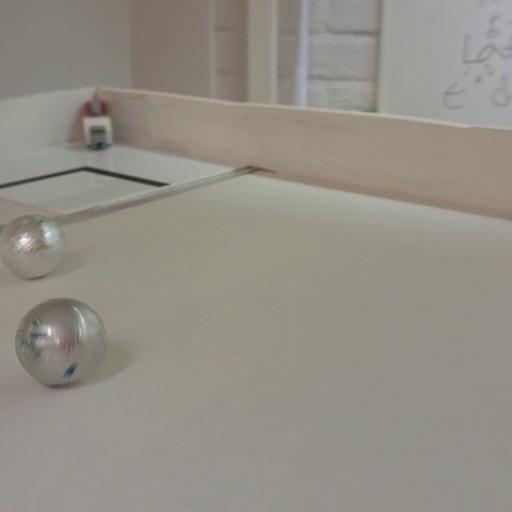alive: (12, 298, 105, 388), (0, 214, 66, 280)
